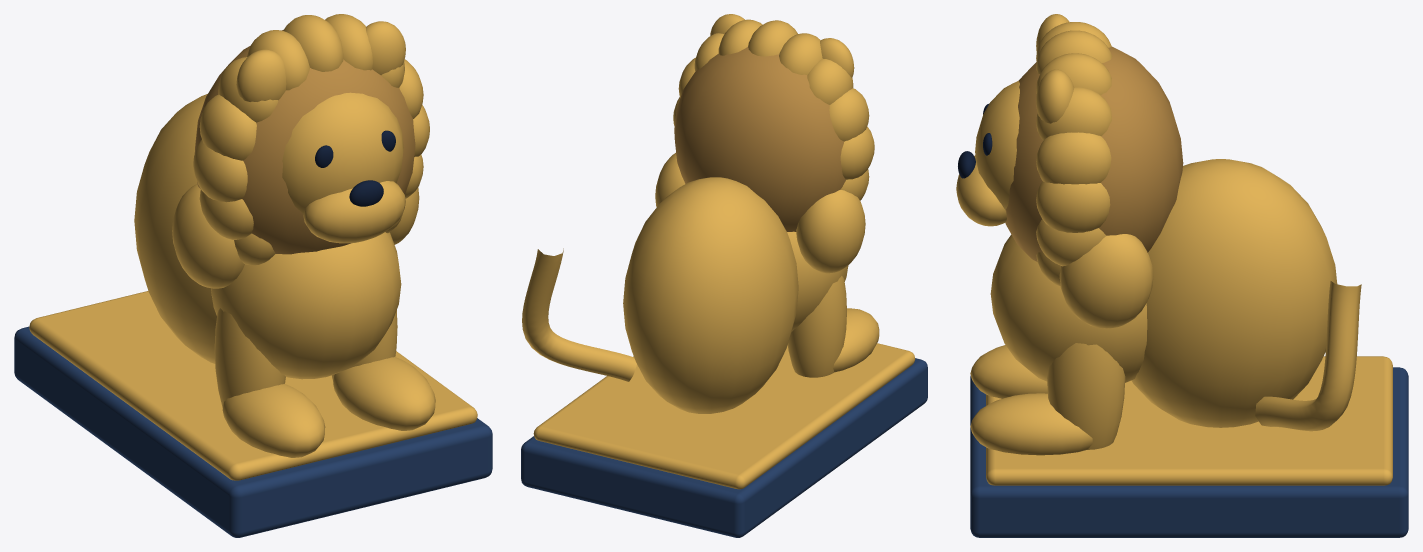
The model's file is blues-lion.glb.
3 views of the same model, side by side, from view 1: azimuth 30°, elevation 25°; view 2: azimuth 150°, elevation 25°; view 3: azimuth 270°, elevation 25° (orthographic). The views are drawn at different scales.
Bounding box in the file's own units: 2.12 × 3.14 × 2.89.
